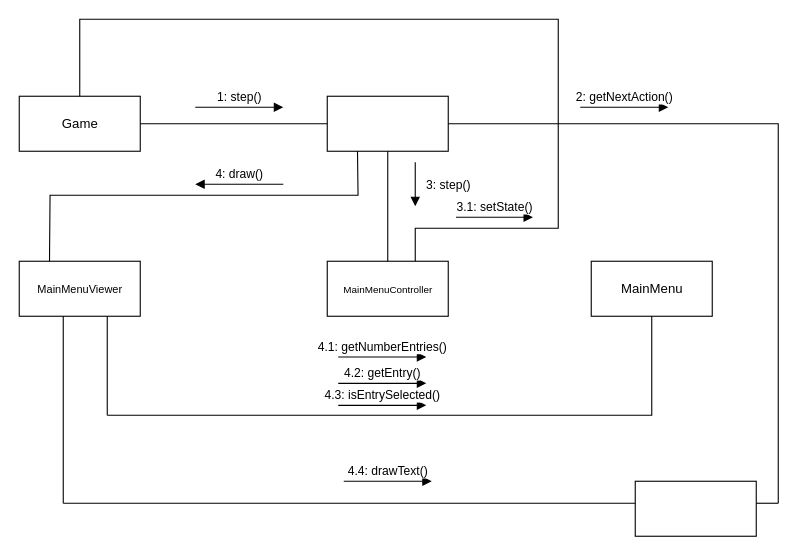
Some shapes in this 799 by 556 pixel diagram are drawn without their labels. Each missing label, with the centre of its shape:
LanternaGUI: the point at 695,508
MainMenuState: the point at 387,123
